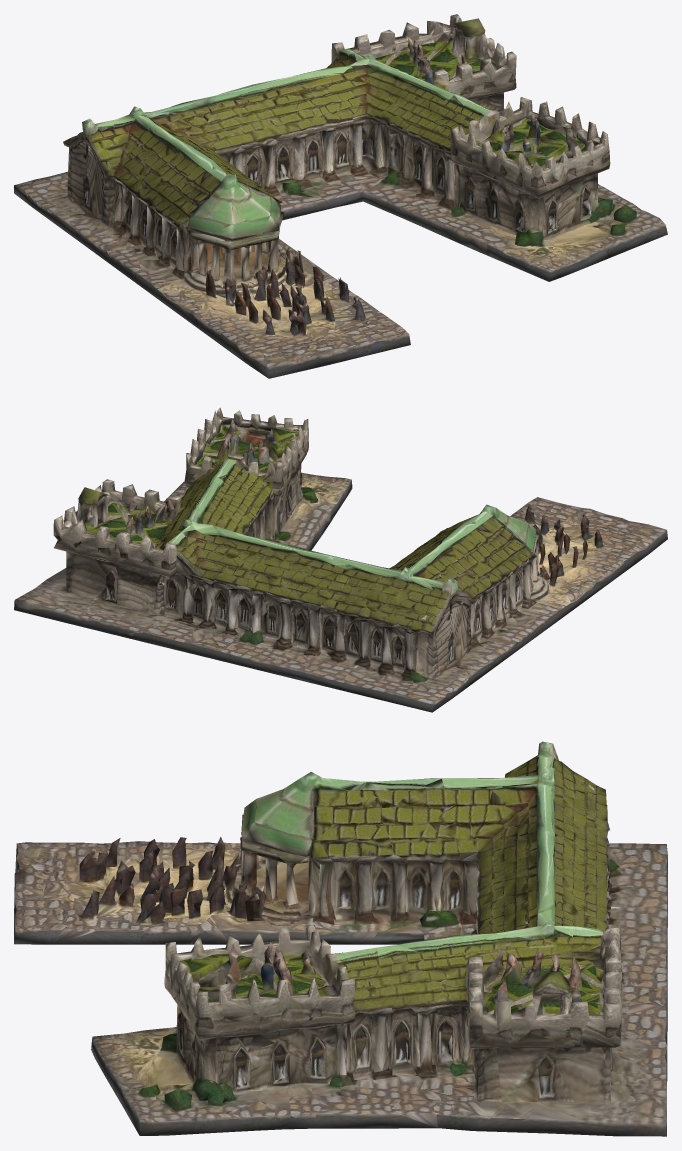
Rendered from opera.glb.
The picture shows the model from 3 angles, top to bottom: view 1: azimuth 30°, elevation 25°; view 2: azimuth 150°, elevation 25°; view 3: azimuth 270°, elevation 25°; orthographic projection. The views are drawn at different scales.
Size of the model in its own units: 1.9 by 0.4301 by 1.86.
Materials: 1 (1 with a texture image).
